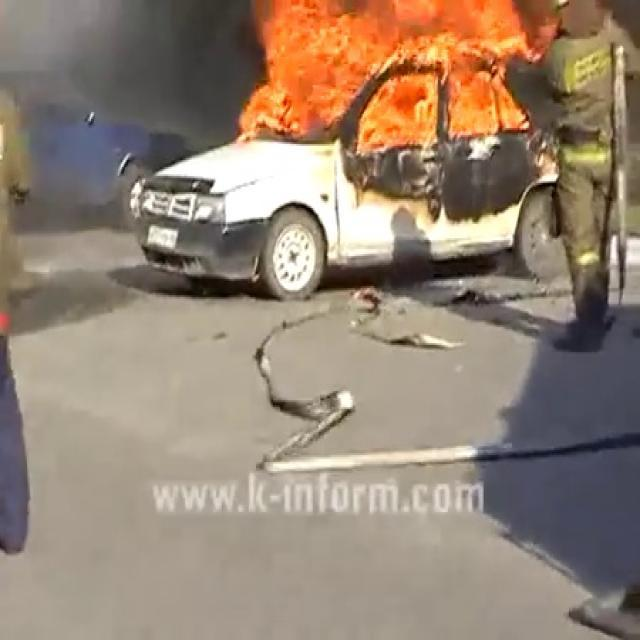Fire: (234, 0, 539, 172)
Smoke: (0, 0, 284, 169)
